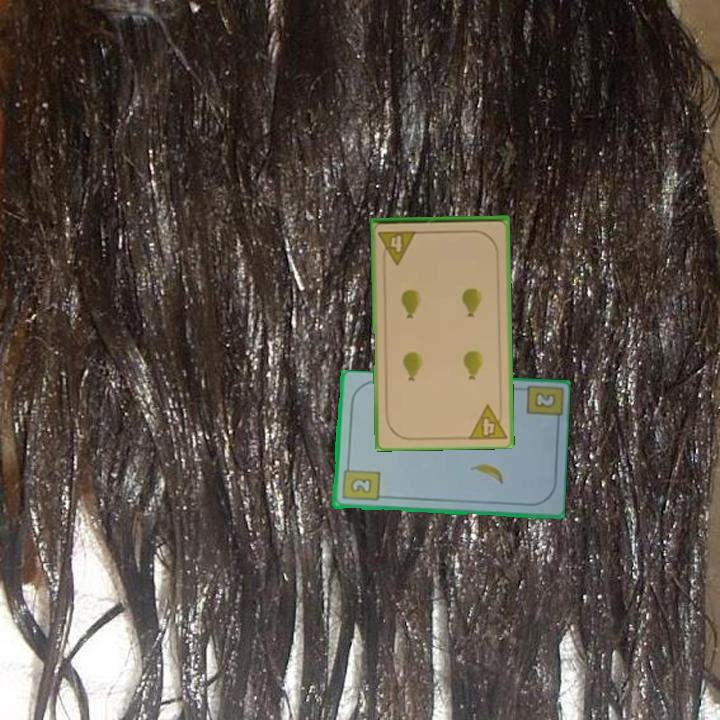2b: (521, 383, 562, 429), (339, 461, 382, 504)
4p: (465, 400, 509, 442), (375, 227, 419, 267)
